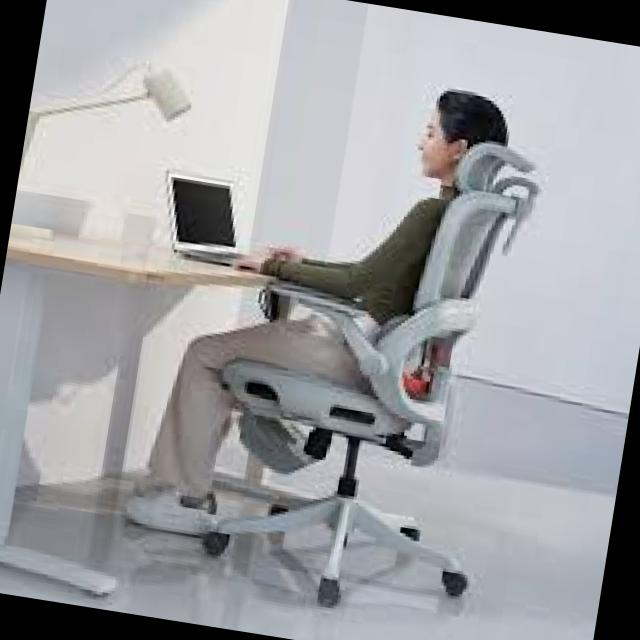Chair: (197, 135, 544, 613)
